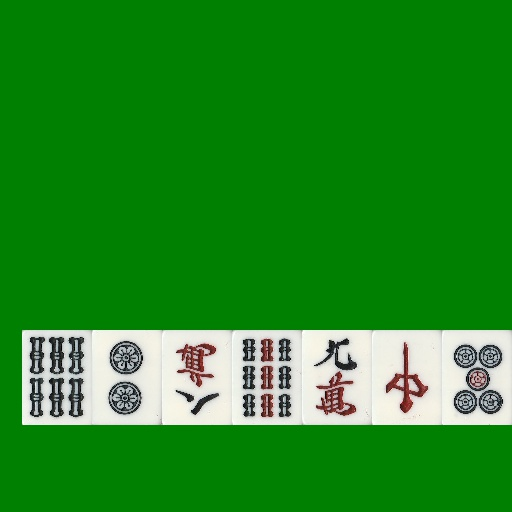2p: (92, 330, 162, 425)
5p: (442, 330, 512, 425)
6s: (22, 330, 92, 425)
8m: (162, 330, 232, 425)
9m: (302, 330, 372, 425)
9s: (232, 330, 302, 425)
tyun: (372, 330, 442, 425)
